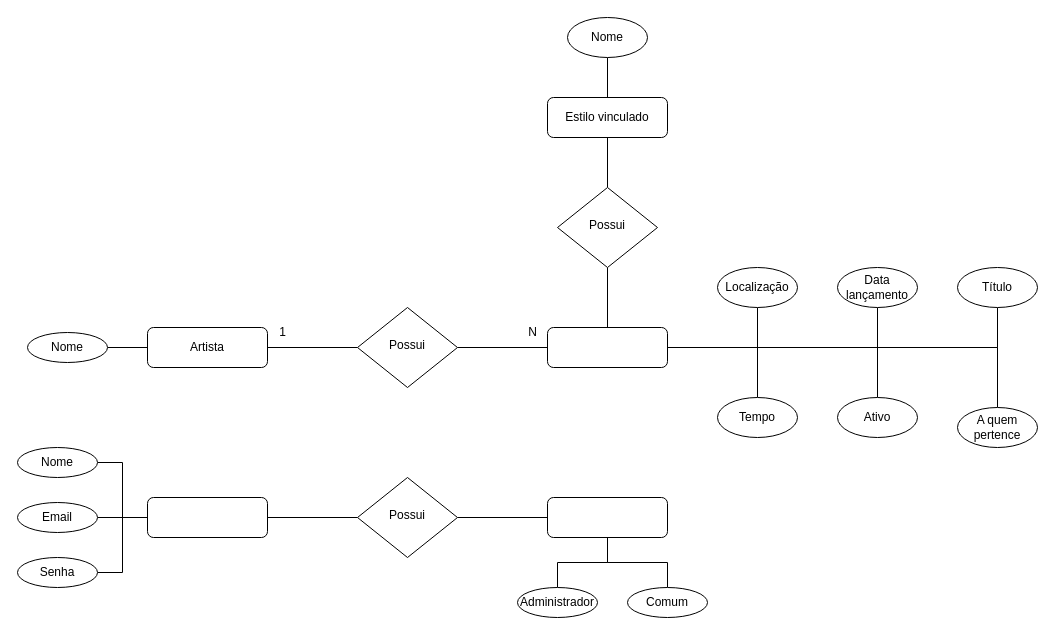
Image size: 1055x635. Some labels were removed from this diagram. Each missing label, with the box of its shape:
Permissão: (546, 496, 668, 538)
Usuário: (146, 496, 268, 538)
Álbum: (546, 326, 668, 368)
